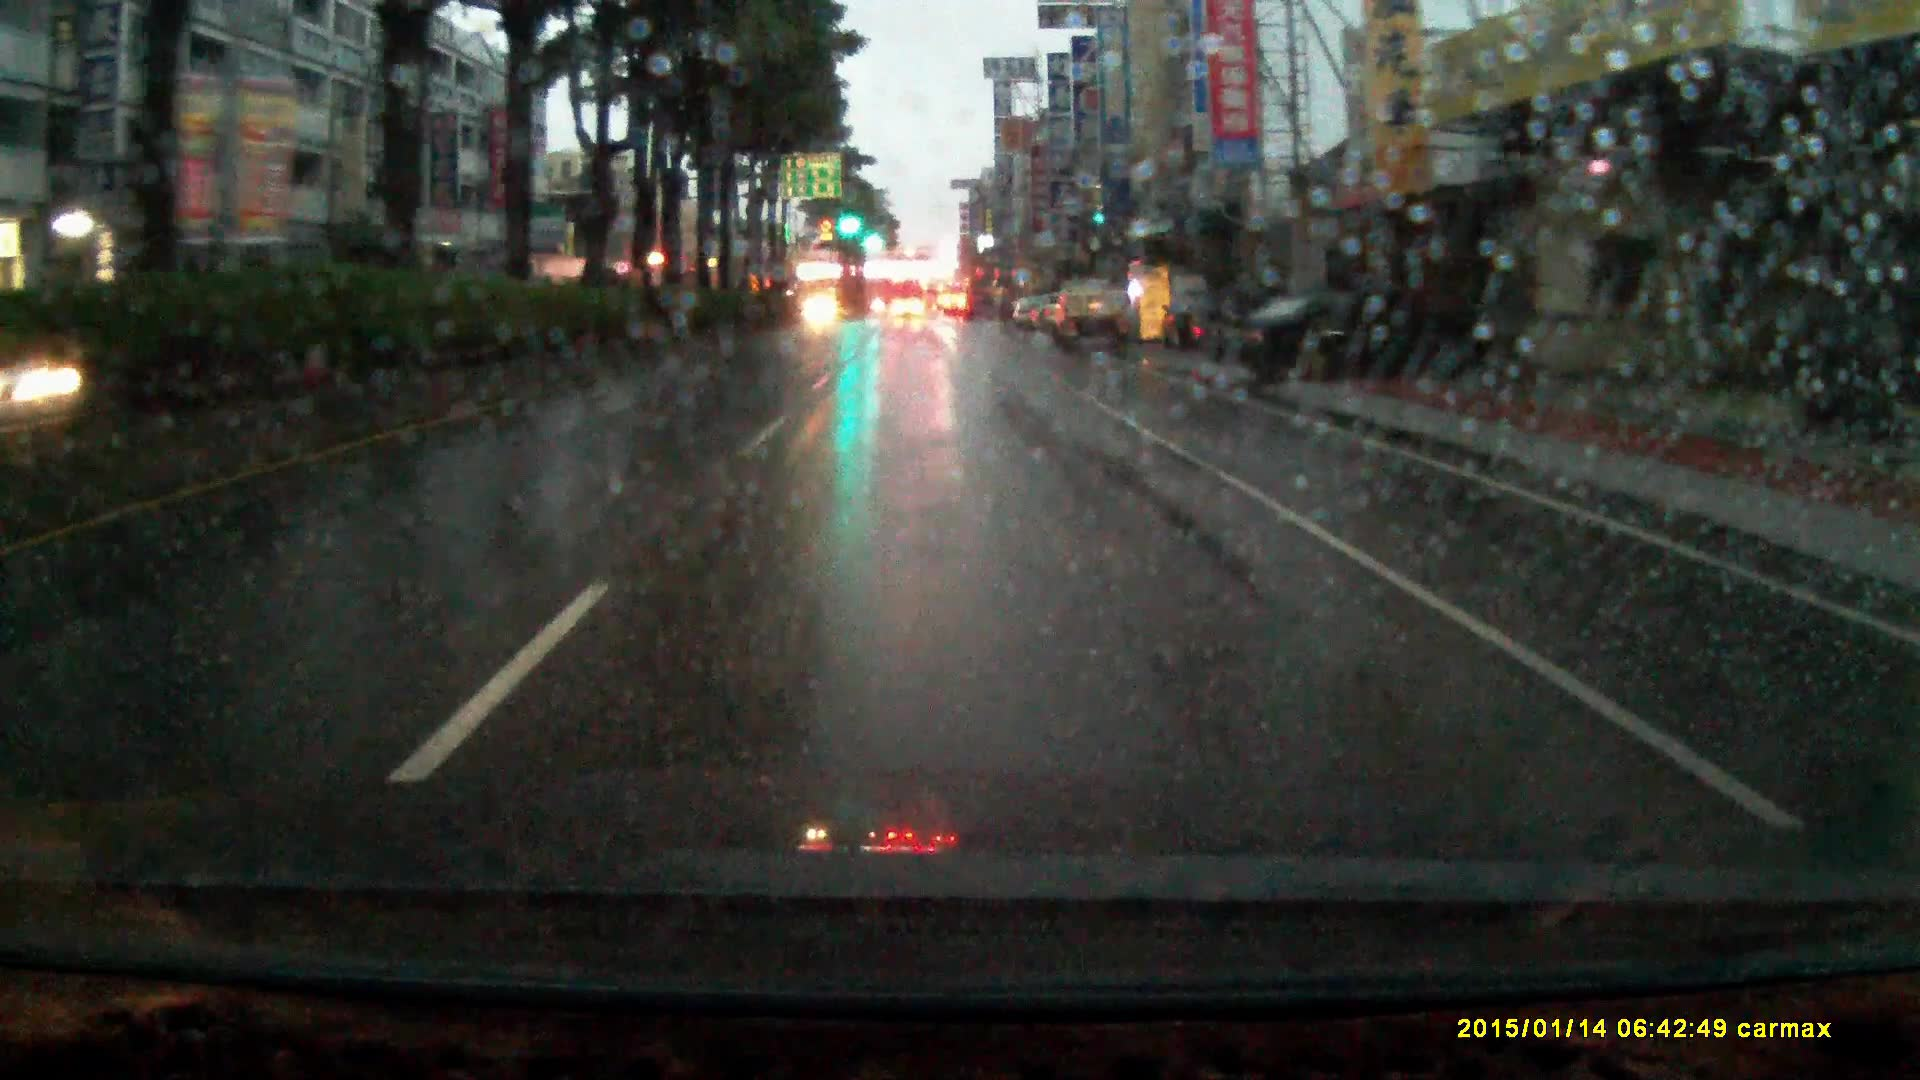vehicle: (1205, 295, 1509, 382), (1055, 280, 1127, 355), (1159, 295, 1240, 359), (800, 298, 843, 334), (890, 301, 927, 324), (923, 282, 945, 318)
